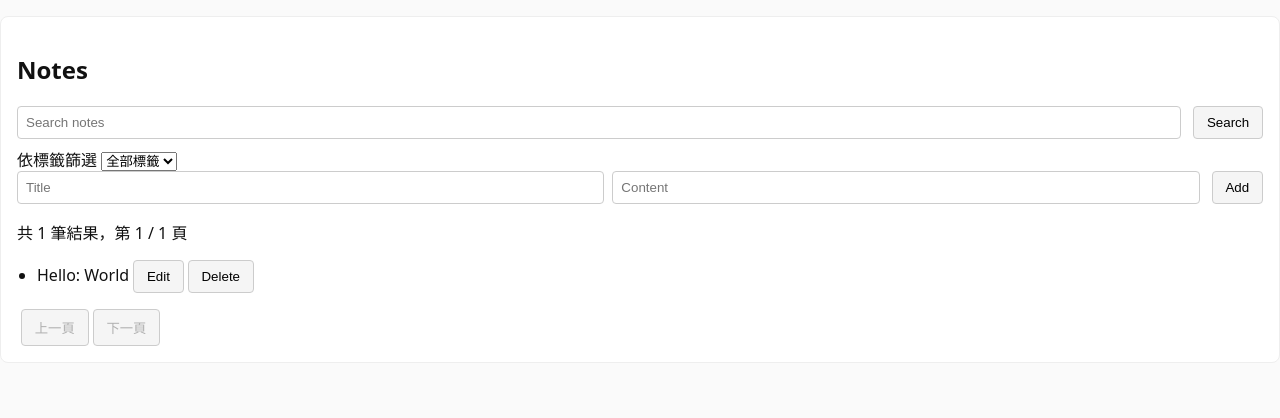
Test: NotesSection › optimistically removes a note on delete and rolls back on failure
Expected: the list item "Hello: World Edit Delete" is shown, left=37, top=260, right=254, bottom=293
Click the button "Delete": (221, 276) left=188, top=260, right=254, bottom=293
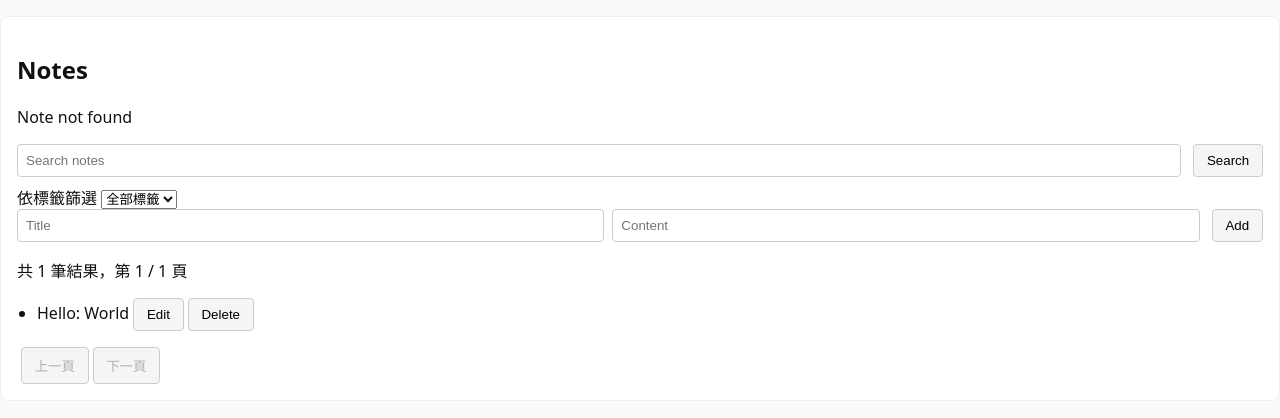
Expected: the list item "Hello: World Edit Delete" is shown, left=37, top=298, right=254, bottom=331
Result: the message "Note not found" is shown at left=17, top=106, right=132, bottom=128
